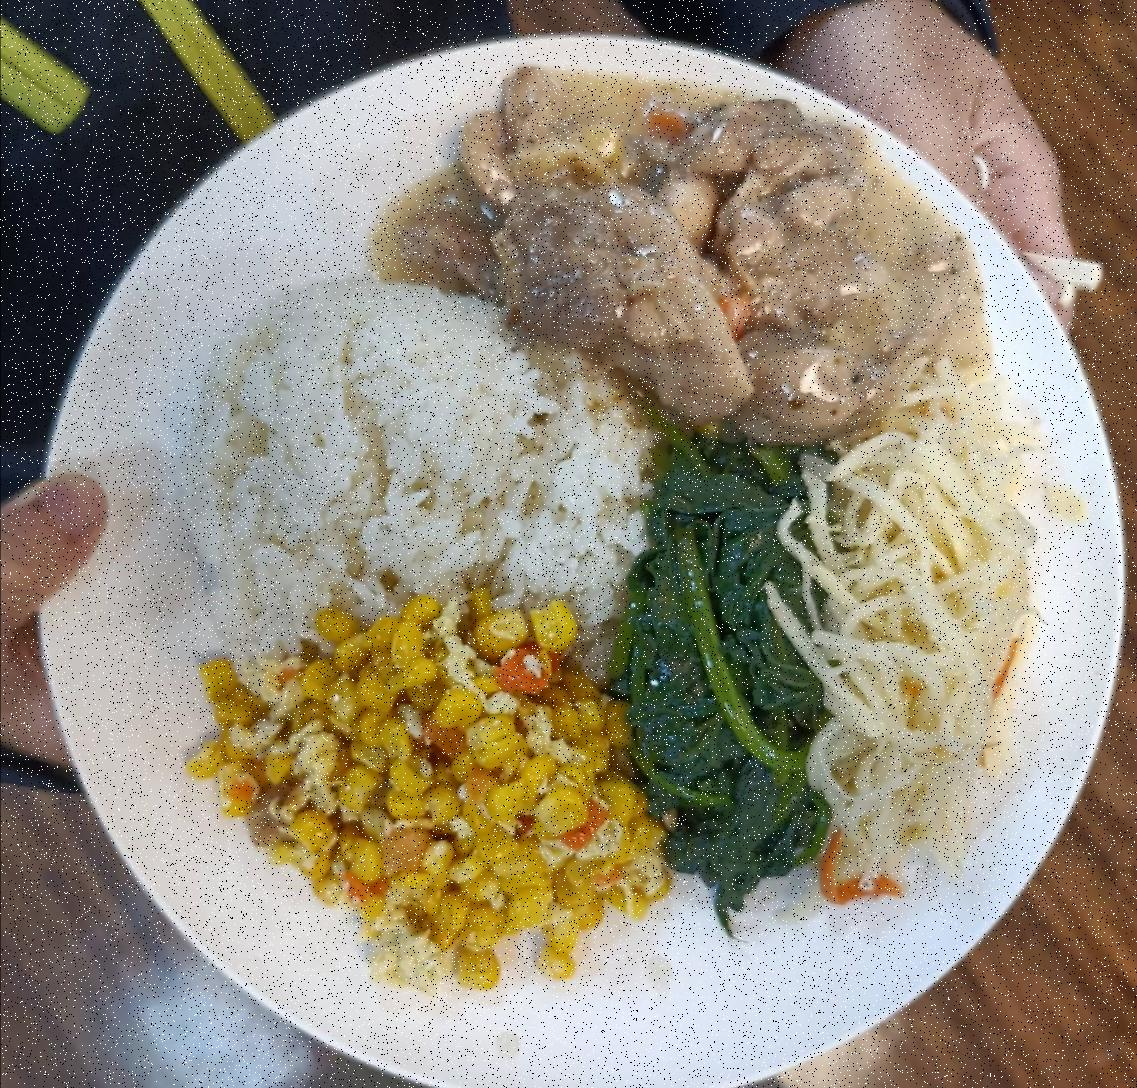plate: (26, 30, 1124, 1088)
side dish: (187, 586, 660, 1001), (804, 378, 1054, 899), (620, 438, 814, 903)
white rice: (184, 261, 664, 662)
white sauce chicken: (369, 66, 996, 443)
